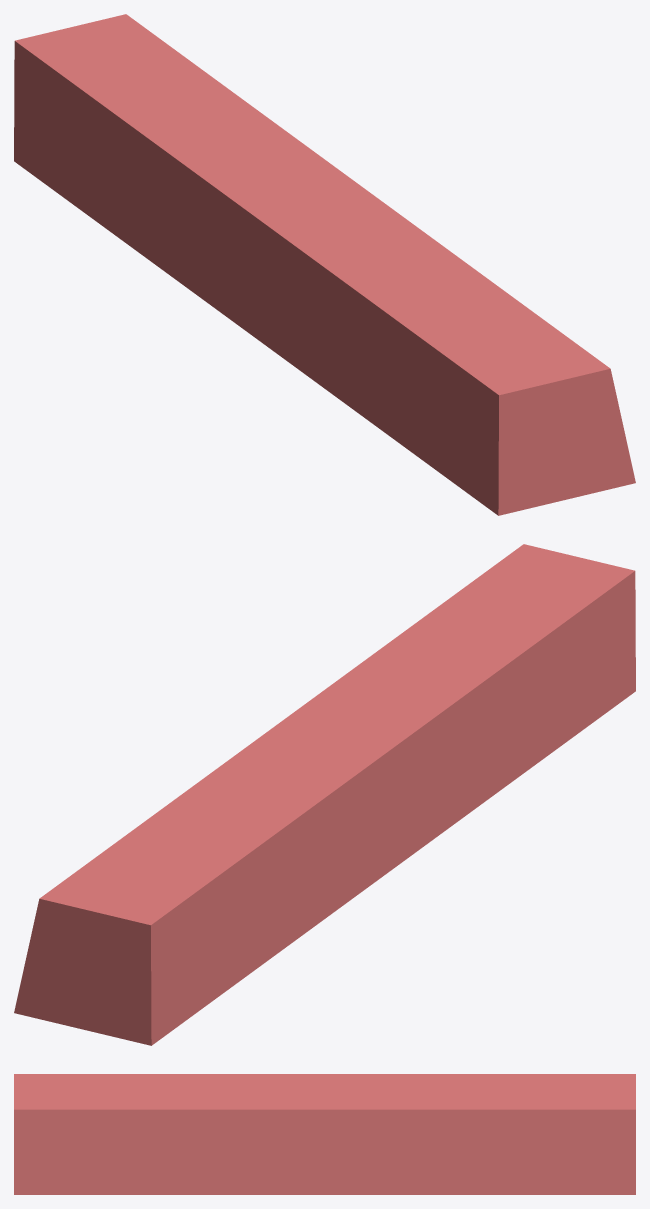
The model's file is small_horizontal_plank_01.fbx.
The picture shows the model from 3 angles, top to bottom: view 1: azimuth 30°, elevation 25°; view 2: azimuth 150°, elevation 25°; view 3: azimuth 270°, elevation 25°; orthographic projection. The views are drawn at different scales.
Visible parts, largest first — view 1: small_horizontal_plank_02; view 2: small_horizontal_plank_02; view 3: small_horizontal_plank_02.
Boxes of the visible parts, <box> form: small_horizontal_plank_02: <box>14,14,635,515</box>; small_horizontal_plank_02: <box>14,544,635,1045</box>; small_horizontal_plank_02: <box>14,1074,635,1194</box>.
Bounding box in the file's own units: 19.53 × 16.45 × 119.
